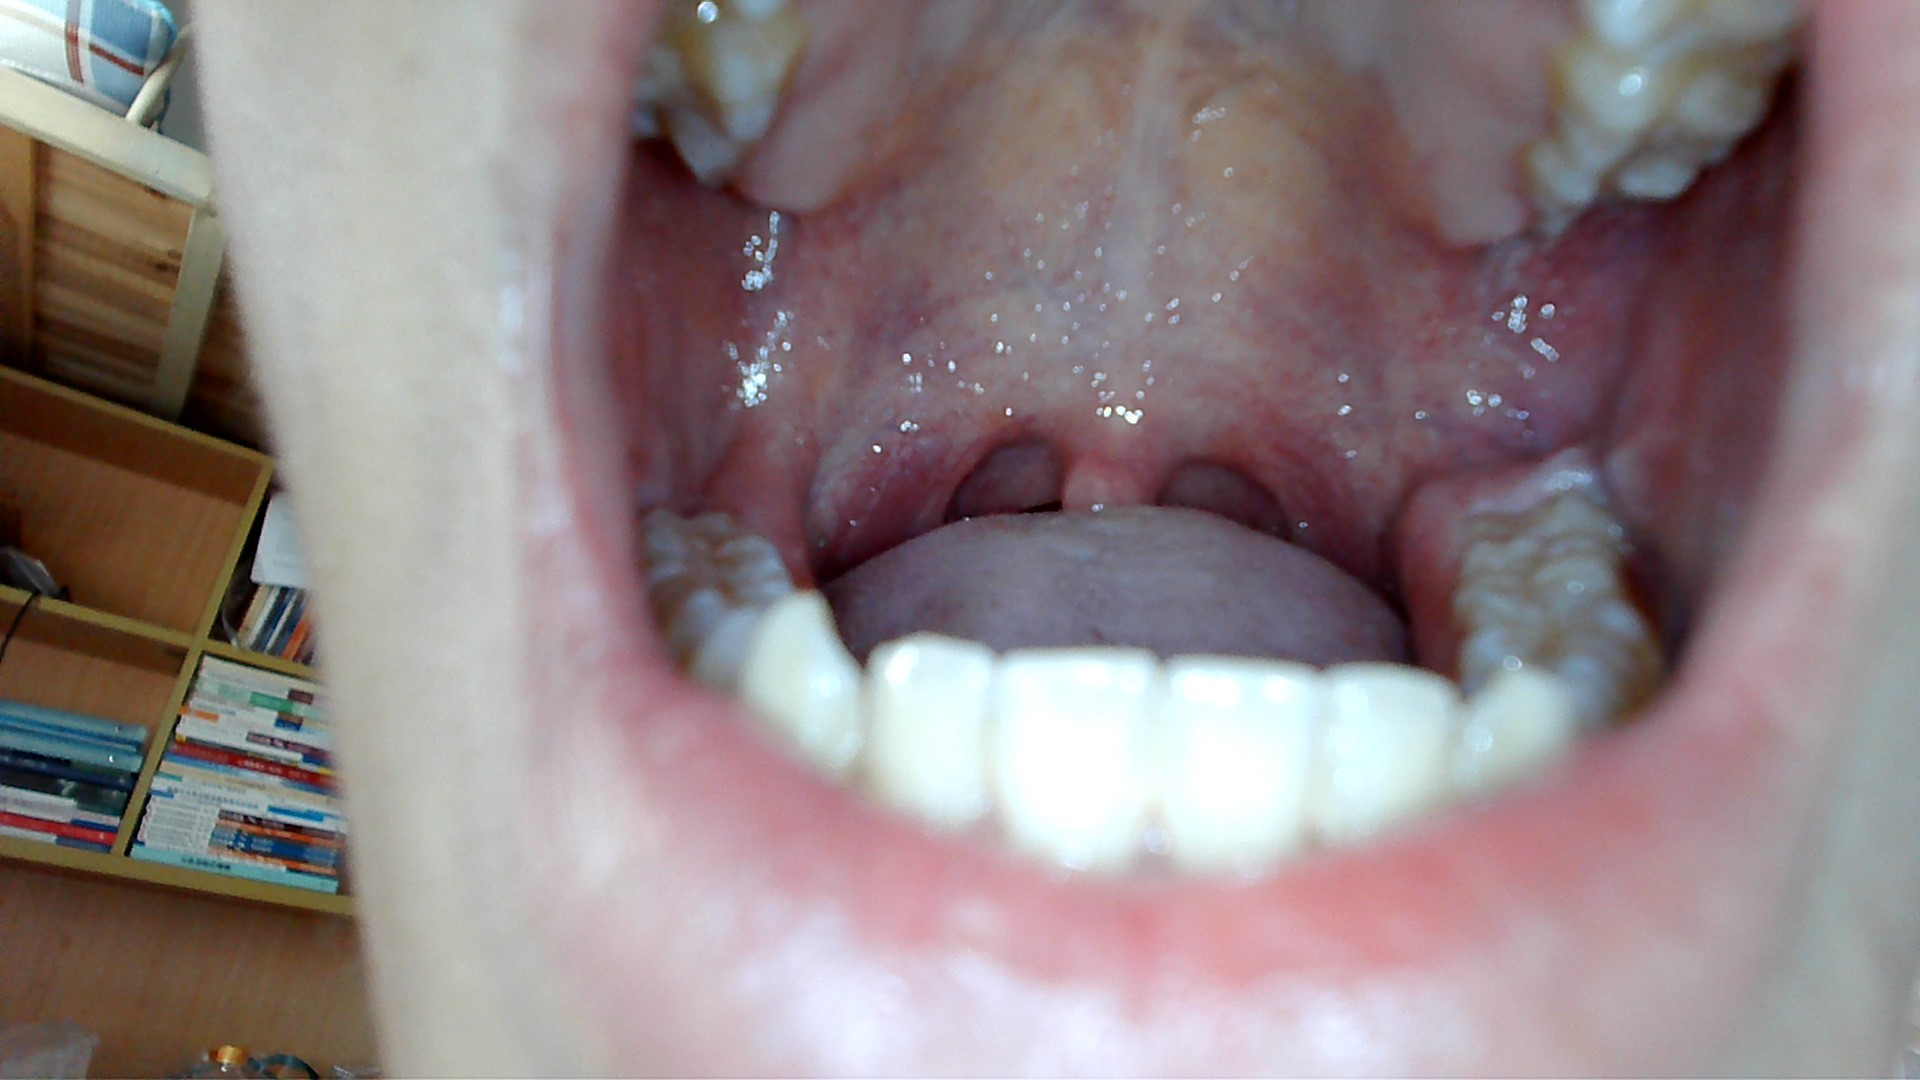throat: (1258, 415, 1358, 549), (890, 407, 978, 520)
